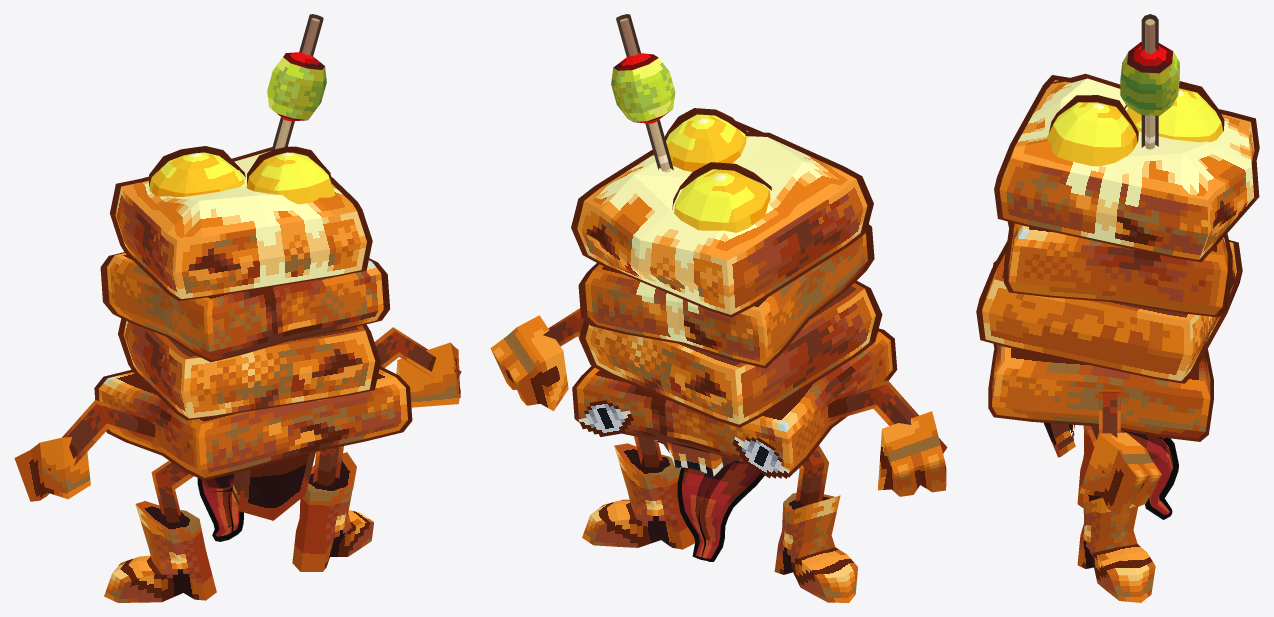
Rendered from monster_1.glb.
3 renders of one model, left to right at view 1: azimuth 30°, elevation 25°; view 2: azimuth 150°, elevation 25°; view 3: azimuth 270°, elevation 25°, orthographic. The views are drawn at different scales.
Parts seen in each view (by area): view 1: cube_7, cube_5, cube_6, cube_4, cube_21, cube_29, cube_13, cube_39, cube_26, cube_10, cube_9, cube_35 (+14 smaller); view 2: cube_7, cube_4, cube_6, cube_5, cube_29, cube_21, cube_35, cube_10, cube_39, cube_8, cube_26, cube_9 (+16 smaller); view 3: cube_7, cube_4, cube_6, cube_5, cube_29, cube_35, cube_9, cube_26, cube_15, cube_10, cube_18, cube_8 (+10 smaller).
Boxes of the visible parts, x1,y1,x2,y2 form: cube_7: (115,151,366,298); cube_5: (98,369,407,477); cube_6: (107,253,383,360); cube_4: (123,321,375,418); cube_21: (104,501,216,602); cube_29: (292,452,373,571); cube_13: (232,452,315,520); cube_39: (14,437,90,501); cube_26: (267,52,326,121); cube_10: (149,152,244,197); cube_9: (246,152,334,204); cube_35: (396,342,460,407); cube_7: (577,130,867,314); cube_4: (585,283,875,424); cube_6: (585,233,867,365); cube_5: (576,331,892,472); cube_29: (582,443,695,549); cube_21: (774,493,857,602); cube_35: (490,315,568,411); cube_10: (674,169,770,232); cube_39: (878,411,946,496); cube_8: (682,462,760,558); cube_26: (611,53,675,123); cube_9: (666,114,746,171); cube_7: (999,78,1254,259); cube_4: (982,242,1236,380); cube_6: (1008,223,1227,315); cube_5: (992,344,1210,438); cube_29: (1077,494,1155,602); cube_35: (1079,432,1161,515); cube_9: (1046,102,1137,166); cube_26: (1120,42,1179,115); cube_15: (994,73,1259,262); cube_10: (1126,88,1223,142); cube_18: (976,240,1242,383); cube_8: (1120,430,1173,514).
Size of the model in its own units: 5.09 by 5.76 by 2.63.
1 material, 1 textured.
